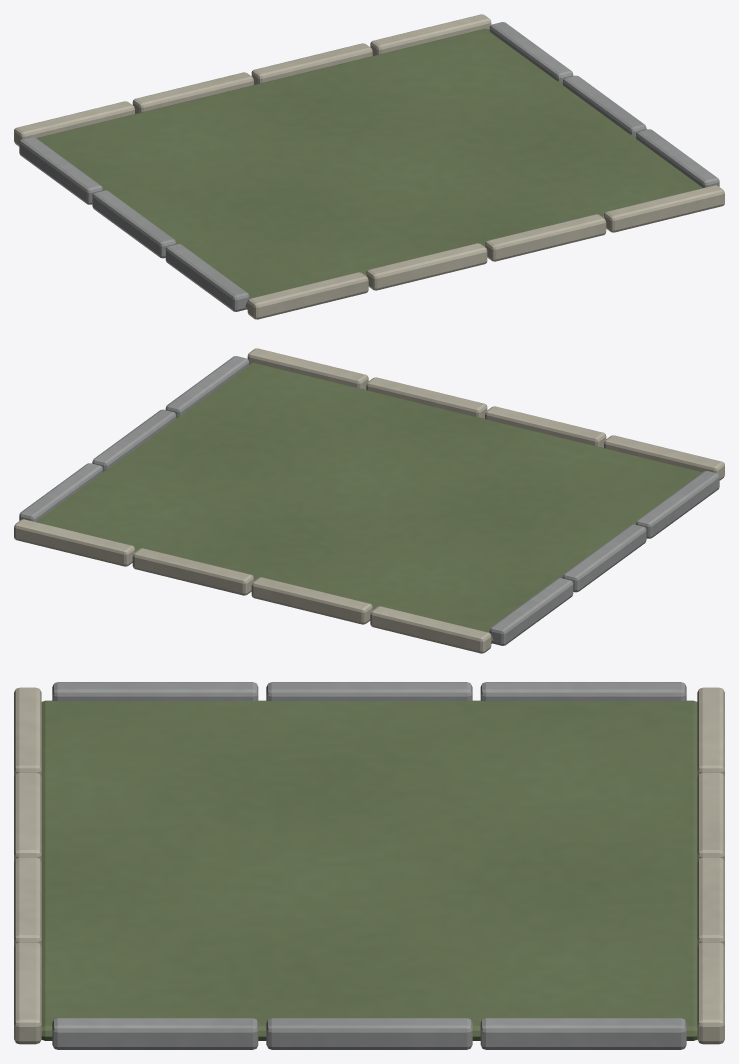
File: camp_plot.glb
The picture shows the model from 3 angles, top to bottom: view 1: azimuth 30°, elevation 25°; view 2: azimuth 150°, elevation 25°; view 3: azimuth 270°, elevation 25°; orthographic projection. The views are drawn at different scales.
Parts seen in each view (by area): view 1: camp_plot_surface; view 2: camp_plot_surface; view 3: camp_plot_surface.
Part boxes in pixels (x1,y1,x2,y2): camp_plot_surface: (14, 14, 724, 319); camp_plot_surface: (14, 348, 724, 653); camp_plot_surface: (14, 682, 724, 1049).
Bounding box in the file's own units: 1.84 × 0.06 × 1.59.
Materials: 1 (1 with a texture image).
